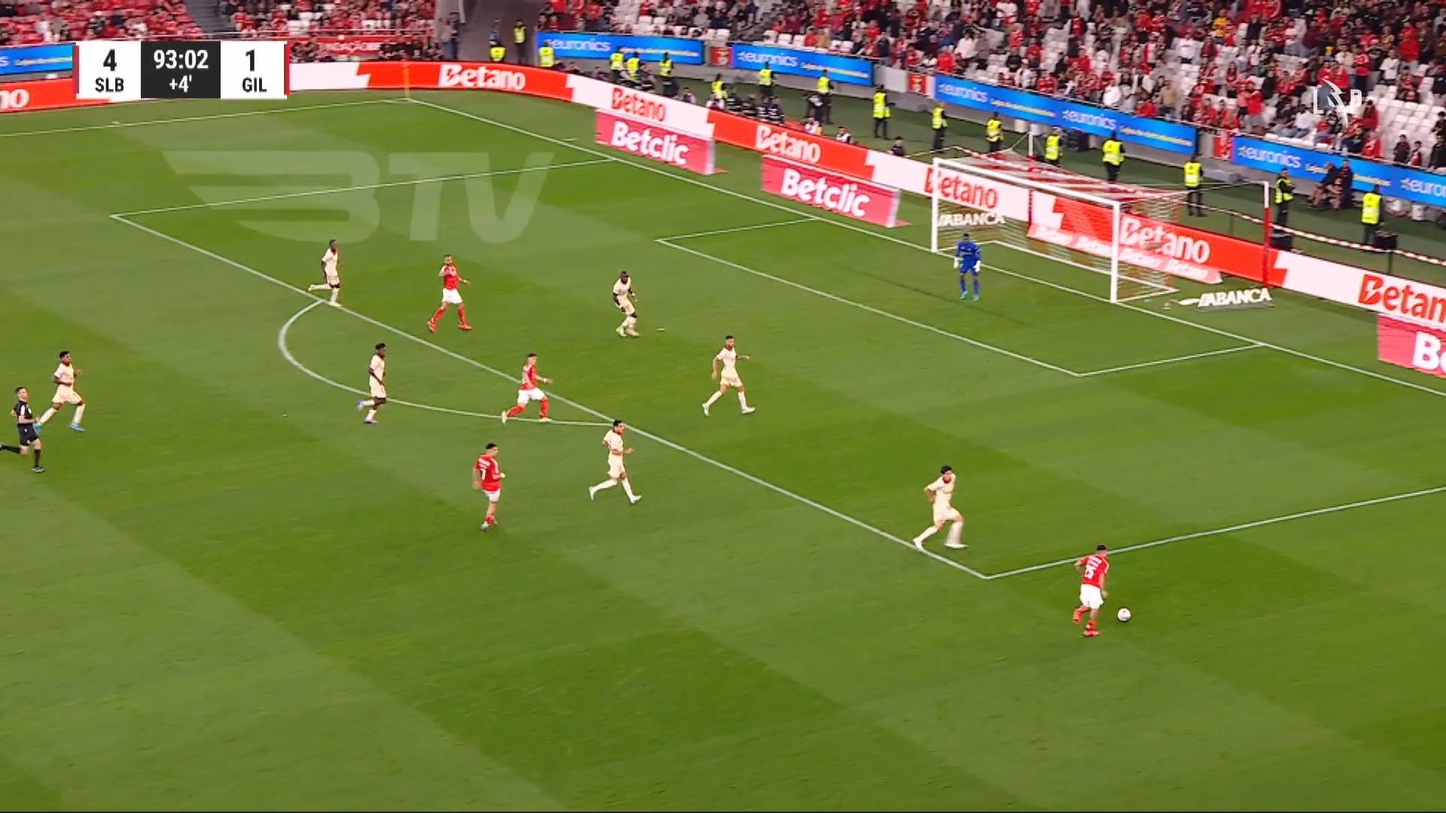ball: (1116, 607, 1130, 623)
goalkeeper: (953, 231, 981, 301)
player: (911, 464, 969, 553), (700, 333, 756, 417), (587, 419, 642, 504), (33, 349, 86, 432), (499, 352, 554, 425), (426, 254, 473, 333), (1071, 543, 1110, 637), (471, 441, 505, 531), (356, 342, 388, 424), (306, 238, 342, 306), (611, 269, 639, 337)
referee: (0, 385, 45, 471)
